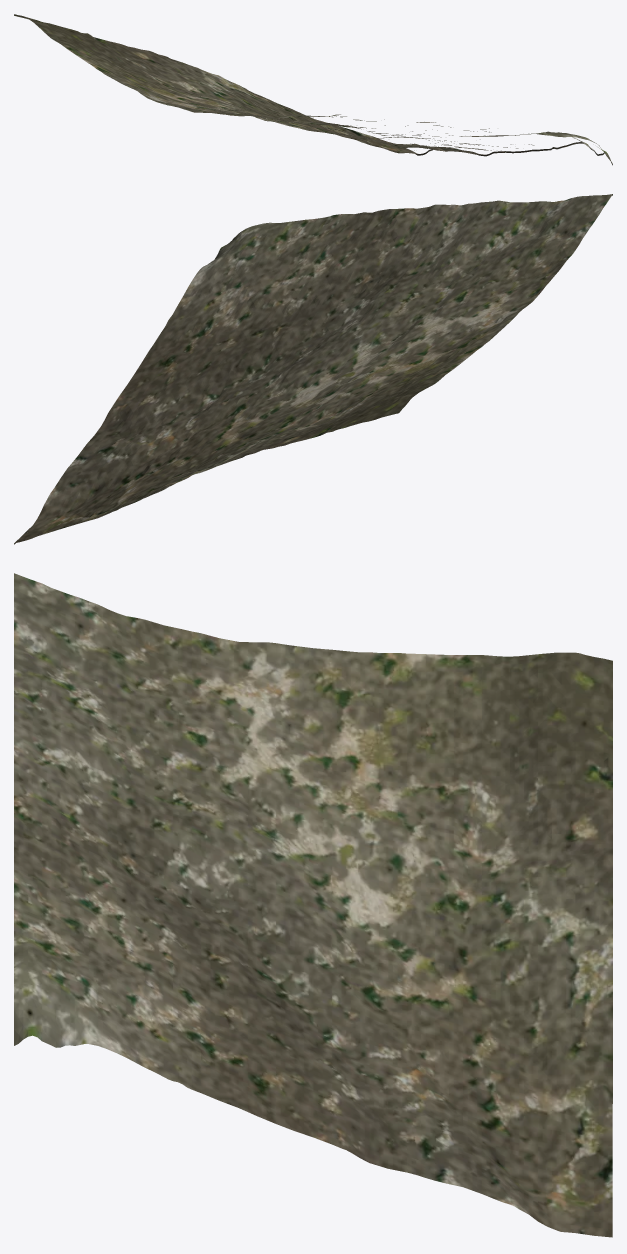
3 views of the same model, one above another, from view 1: azimuth 30°, elevation 25°; view 2: azimuth 150°, elevation 25°; view 3: azimuth 270°, elevation 25° (orthographic). The views are drawn at different scales.
Bounding box in the file's own units: 250 × 179 × 241.
1 material, 1 textured.
